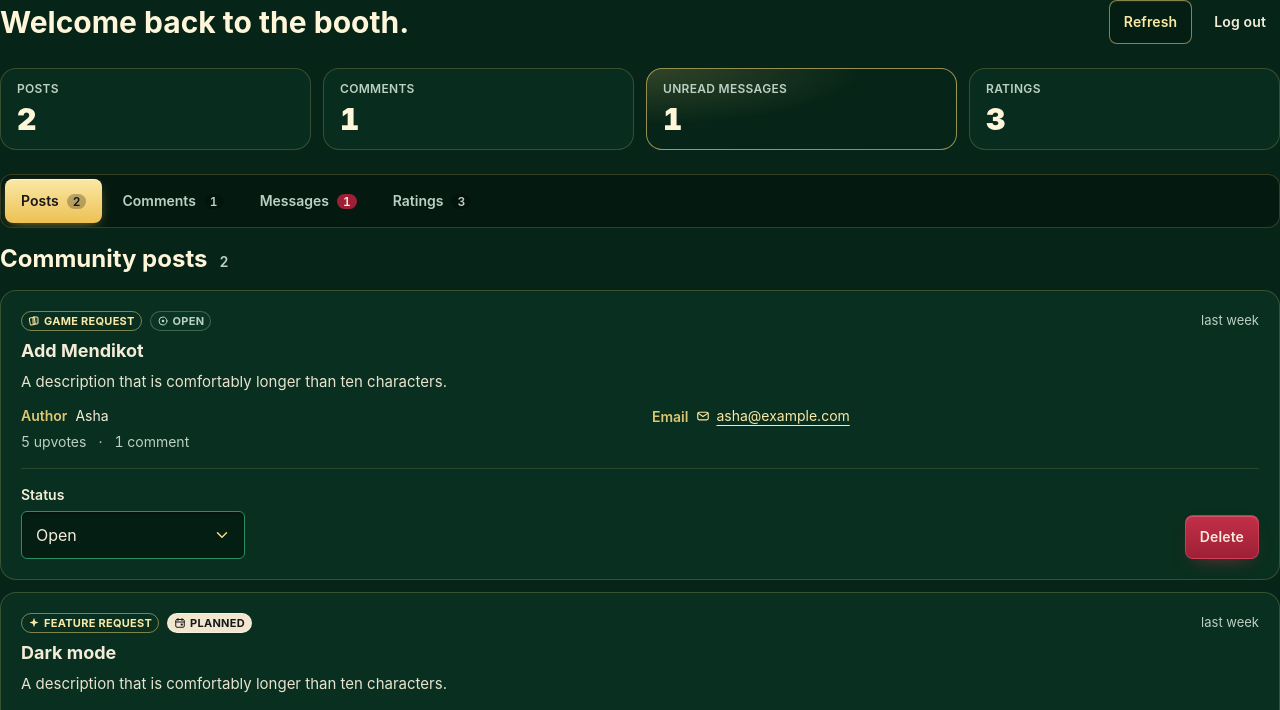
AdminApp — access › logs out
The image size is (1280, 710).
Check: the list item with test id "admin-post-1" is shown, box top-left (0, 290), bottom-right (1279, 580)
Click the button with test id "admin-logout" at x=1240, y=22, box top-left (1200, 0), bottom-right (1279, 44)
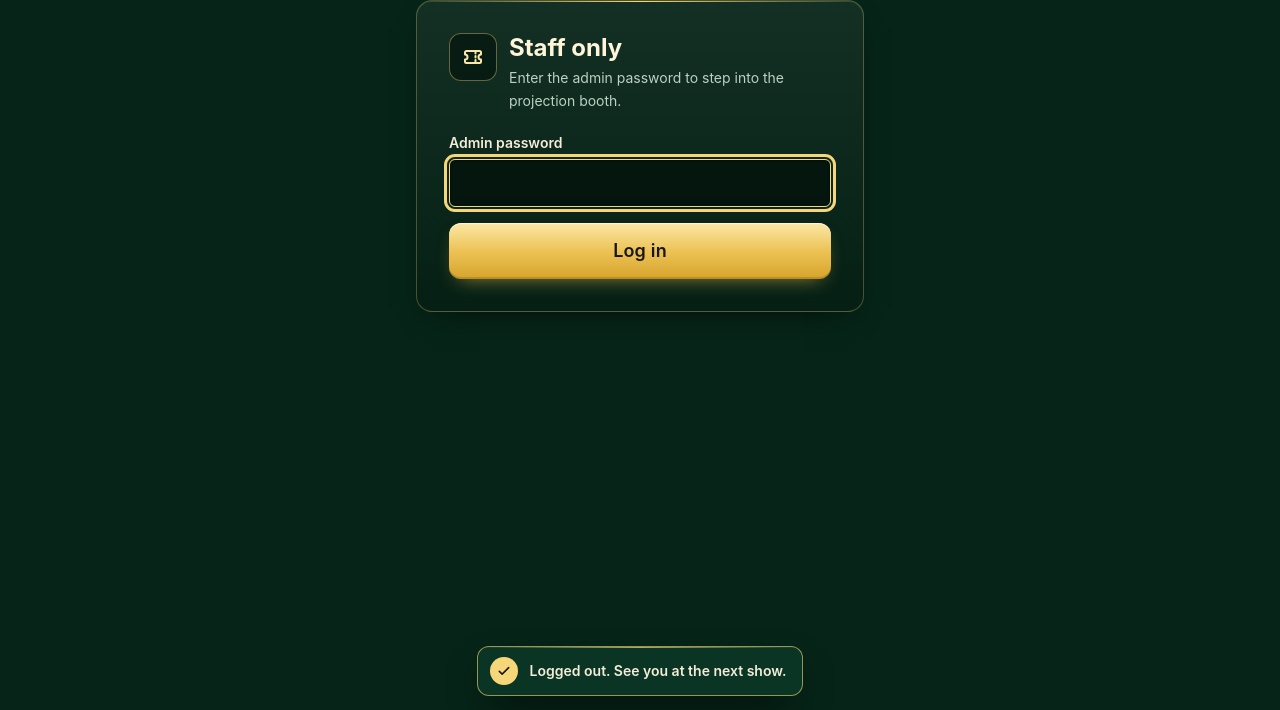
Check: the password field with test id "admin-password" is shown, box top-left (449, 158), bottom-right (831, 206)
Check: the element with test id "toast" shows "Logged out.", box top-left (530, 662), bottom-right (786, 679)
